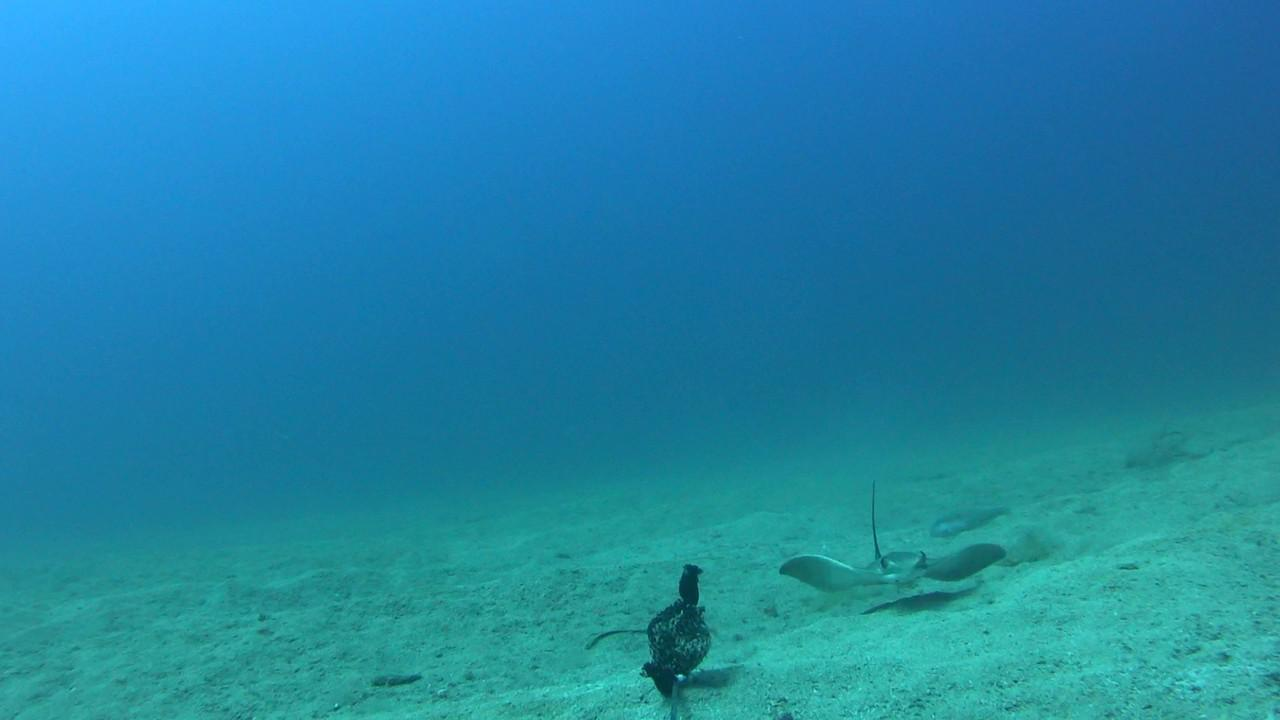myliobatis: (749, 448, 1025, 612)
raor: (928, 502, 1016, 540)
